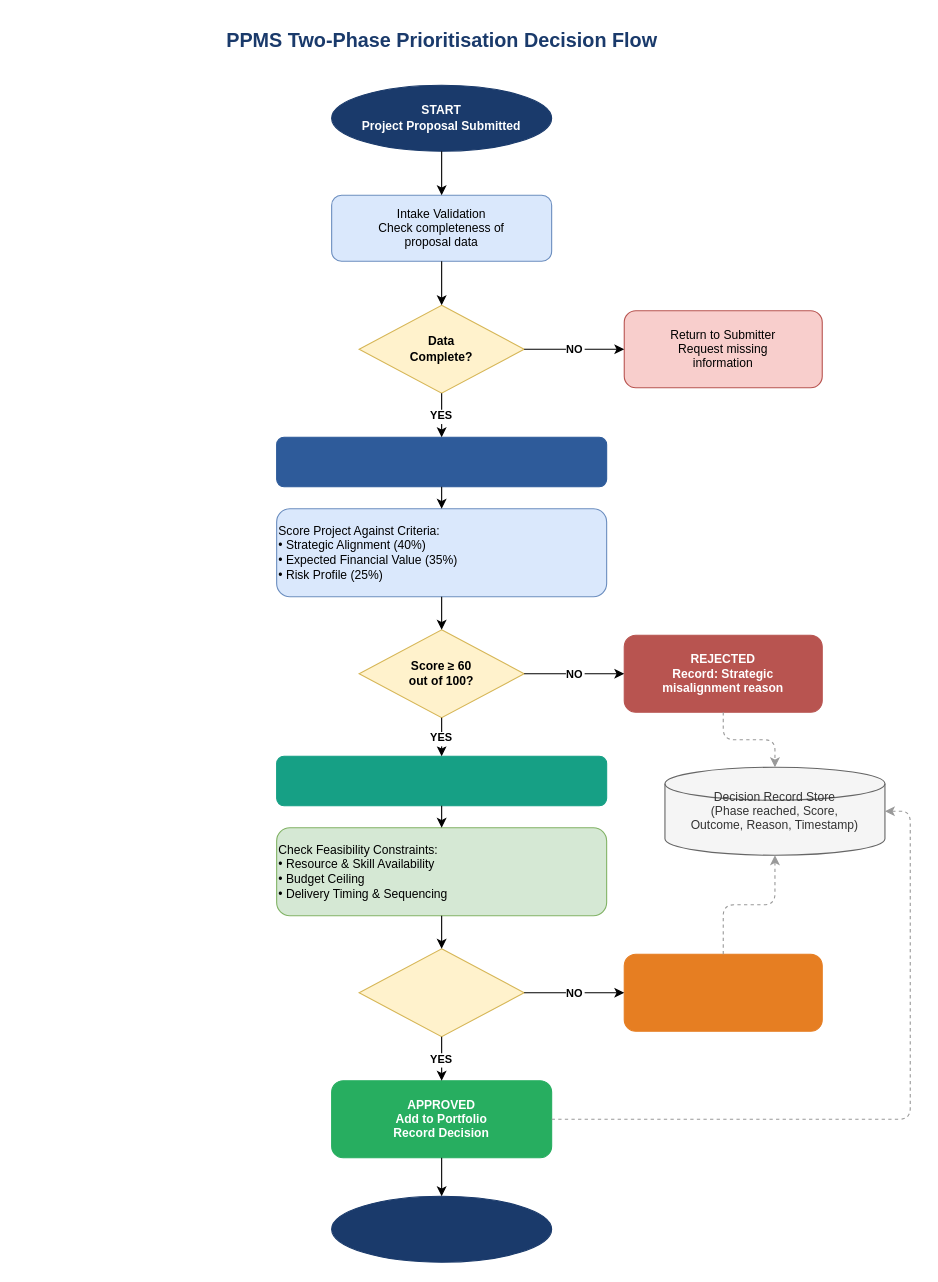
Image size: 938x1282. Some labels were removed from this diagram. Here are the shapes that lost their labels. From the top down, the centre of each, then its label:
At [441,461]: "PHASE 1: STRATEGIC SCREENING".
At [441,780]: "PHASE 2: FEASIBILITY ASSESSMENT".
At [441,992]: "All Constraints Satisfied?".
At [722,992]: "DEFERRED Record: Feasibility constraint reason".
At [441,1228]: "END Portfolio Report Generated".
